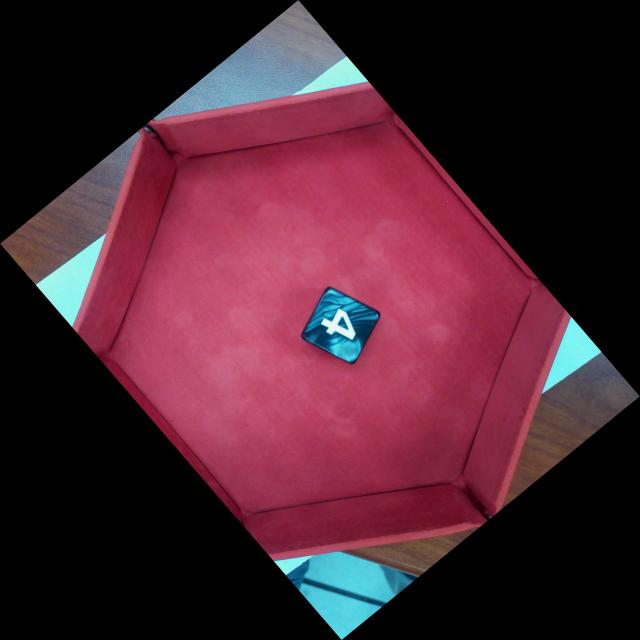dice: (300, 290, 382, 365)
